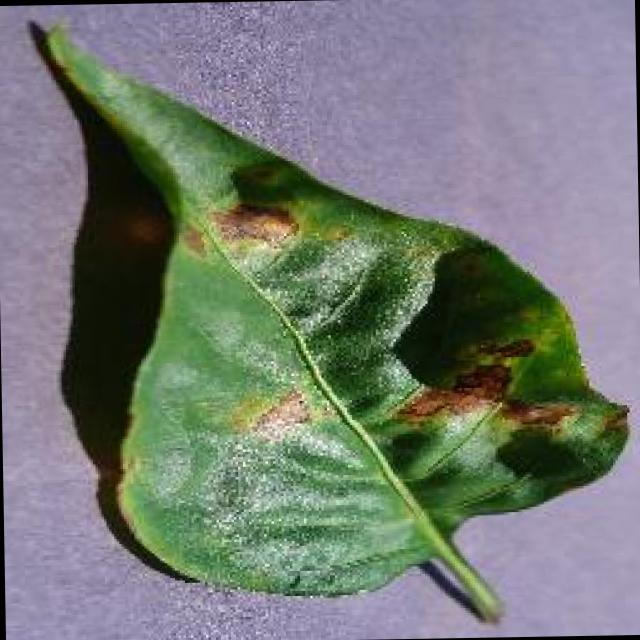Chilli_Bacterial_Spot: (22, 5, 636, 630), (220, 331, 540, 447), (386, 331, 574, 442), (388, 356, 514, 428), (206, 195, 302, 257), (226, 382, 317, 444), (113, 198, 174, 254), (458, 332, 538, 368)
